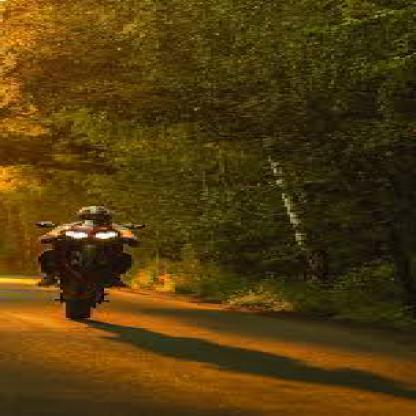Motorcycle: (46, 218, 127, 326)
